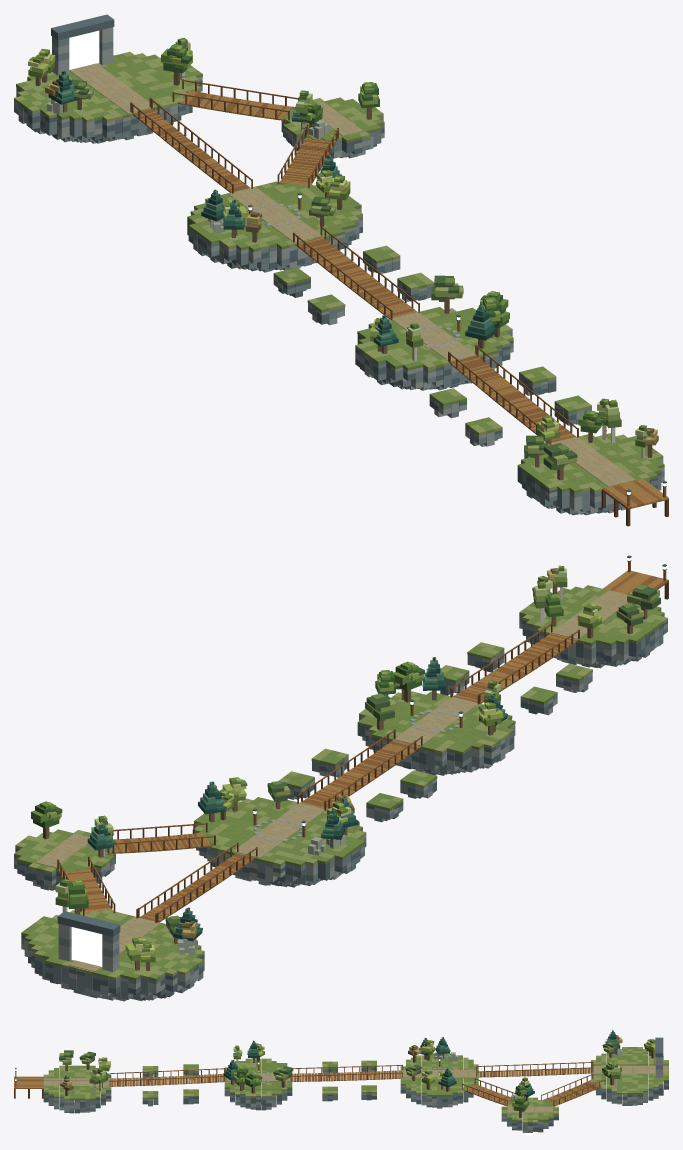
File: sky_route_purified.glb
3 renders of one model, top to bottom at view 1: azimuth 30°, elevation 25°; view 2: azimuth 150°, elevation 25°; view 3: azimuth 270°, elevation 25°, orthographic. The views are drawn at different scales.
Visible parts, largest first — view 1: sky_route_blocks, tree0_(0, 0).007, tree3_(0, 0).003, tree2_(0, 0).001, tree3_(0, 0).002; view 2: sky_route_blocks, tree0_(0, 0).003, tree3_(0, 0).003, tree0_(0, 0).006, tree3_(0, 0).002, tree2_(0, 0).004; view 3: sky_route_blocks, tree3_(0, 0).003, tree0_(0, 0).006, tree2_(0, 0).004, tree0_(0, 0).004, tree3_(0, 0).002, tree4_(0, 0).005, tree2_(0, 0).001, tree0_(0, 0).007, tree2_(0, 0).003.
Part boxes in pixels (x1,y1,x2,y2): sky_route_blocks: (14, 14, 668, 526); tree0_(0, 0).007: (161, 44, 192, 85); tree3_(0, 0).003: (431, 275, 463, 313); tree2_(0, 0).001: (465, 304, 496, 348); tree3_(0, 0).002: (543, 443, 577, 480); sky_route_blocks: (14, 555, 668, 1001); tree0_(0, 0).003: (393, 661, 424, 702); tree3_(0, 0).003: (365, 693, 396, 730); tree0_(0, 0).006: (31, 801, 62, 839); tree3_(0, 0).002: (627, 584, 660, 619); tree2_(0, 0).004: (198, 781, 226, 822); sky_route_blocks: (14, 1037, 668, 1135); tree3_(0, 0).003: (273, 1066, 293, 1087); tree0_(0, 0).006: (512, 1096, 528, 1117); tree2_(0, 0).004: (439, 1068, 456, 1091); tree0_(0, 0).004: (245, 1072, 262, 1093); tree3_(0, 0).002: (59, 1050, 73, 1071); tree4_(0, 0).005: (421, 1069, 435, 1089); tree2_(0, 0).001: (223, 1060, 237, 1084); tree0_(0, 0).007: (602, 1061, 621, 1085); tree2_(0, 0).003: (435, 1037, 450, 1058).
Bounding box in the file's own units: 38.39 × 16.2 × 145.
